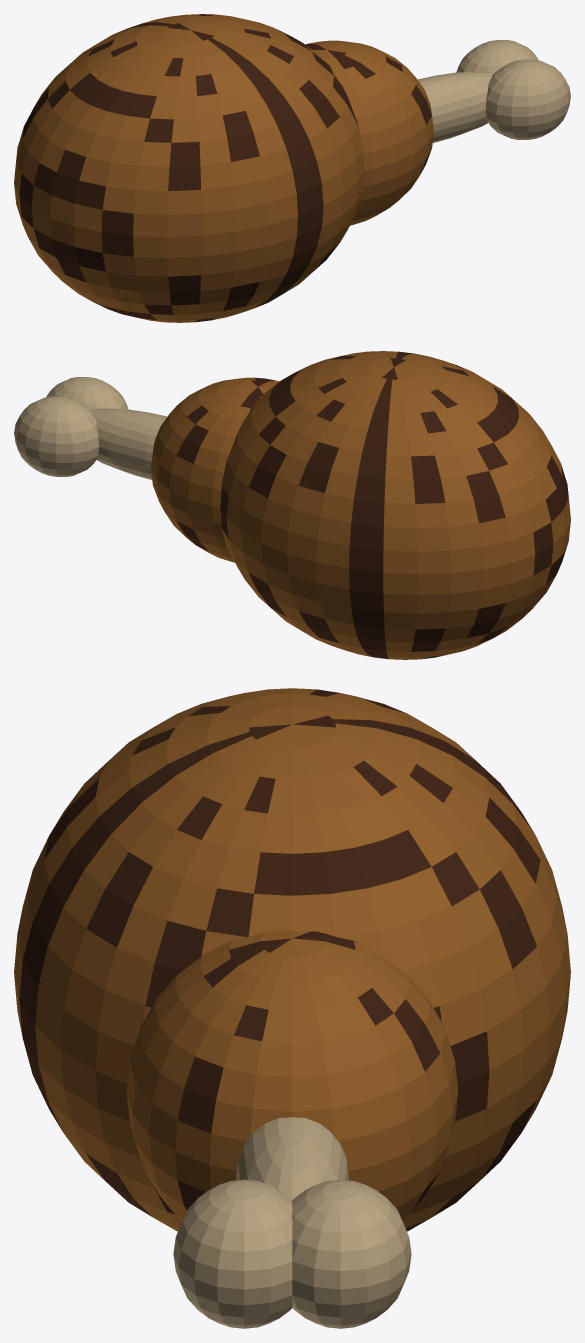
File: SM_Meat_Cooked_A.fbx
3 views of the same model, one above another, from view 1: azimuth 30°, elevation 25°; view 2: azimuth 150°, elevation 25°; view 3: azimuth 270°, elevation 25° (orthographic). The views are drawn at different scales.
Parts seen in each view (by area): view 1: SM_Meat_Cooked_A; view 2: SM_Meat_Cooked_A; view 3: SM_Meat_Cooked_A.
Boxes of the visible parts, <box> form: SM_Meat_Cooked_A: <box>14,14,570,322</box>; SM_Meat_Cooked_A: <box>14,351,570,659</box>; SM_Meat_Cooked_A: <box>14,688,570,1328</box>.
Size of the model in its own units: 34.6 by 67.1 by 34.
